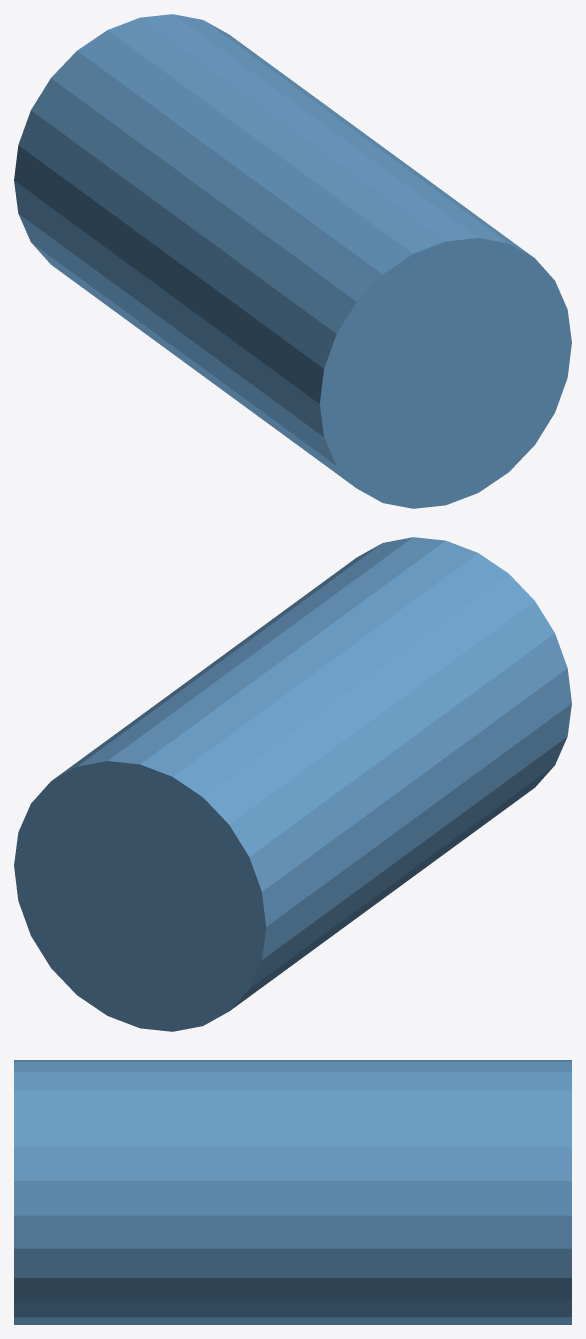
The model's file is a1_suction.glb.
3 views of the same model, one above another, from view 1: azimuth 30°, elevation 25°; view 2: azimuth 150°, elevation 25°; view 3: azimuth 270°, elevation 25° (orthographic). The views are drawn at different scales.
Visible parts, largest first — view 1: world; view 2: world; view 3: world.
Part boxes in pixels (x1,y1,x2,y2): world: (14, 14, 571, 508); world: (14, 537, 571, 1031); world: (14, 1060, 571, 1324).
Bounding box in the file's own units: 0.05 × 0.05 × 0.105.
